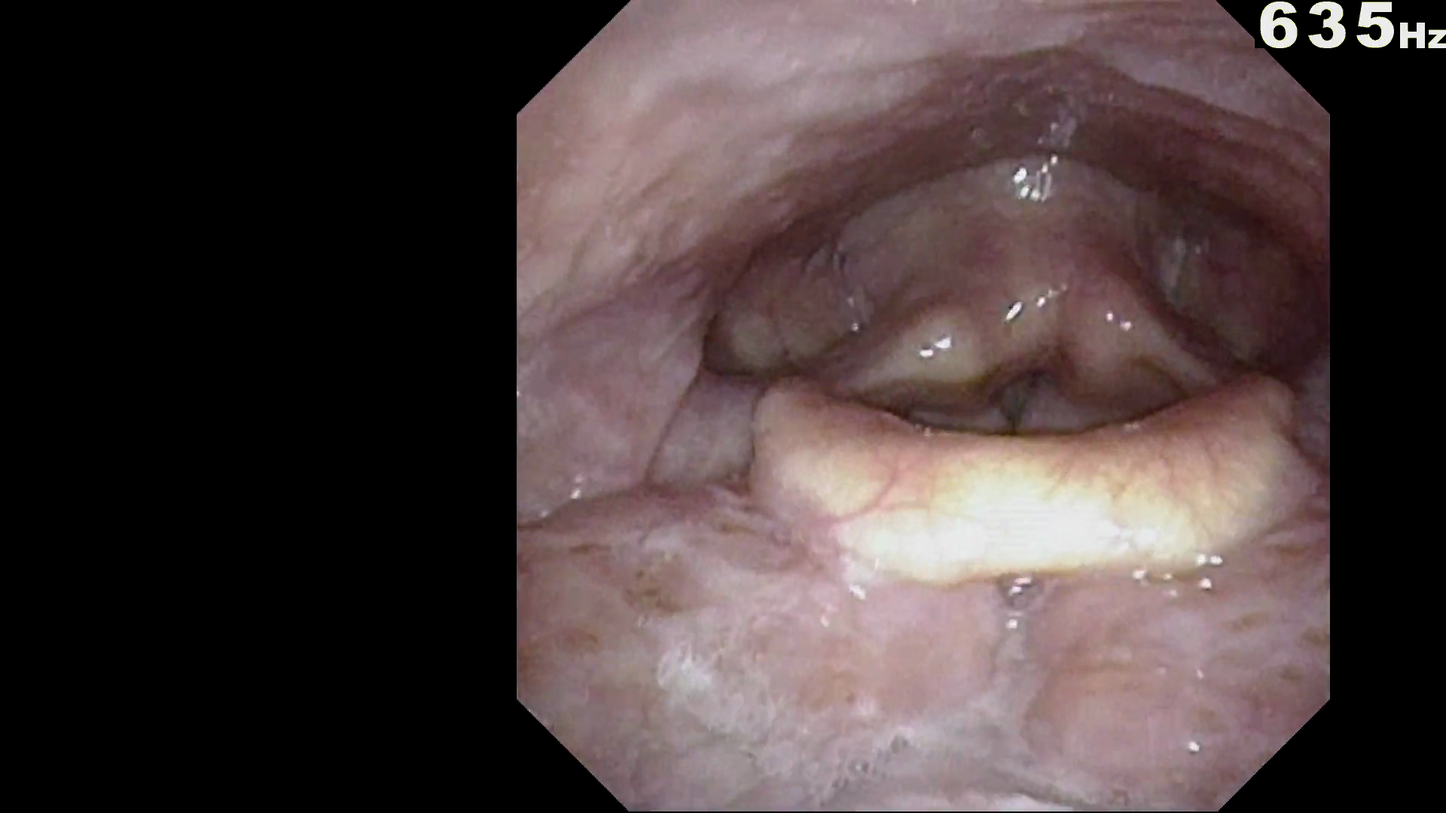epiglottis: (795, 394, 1264, 586)
trachea: (952, 328, 1083, 452)
